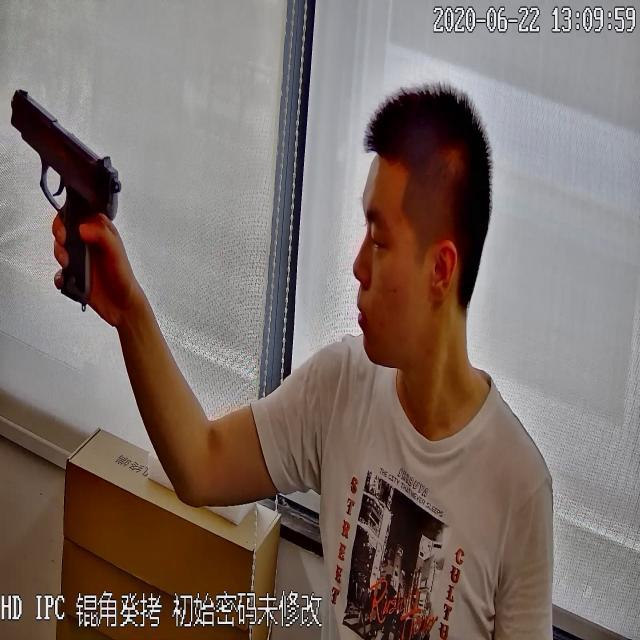gun-knife-thesis - v11 Yolov5 augmented: (4, 75, 120, 301)
